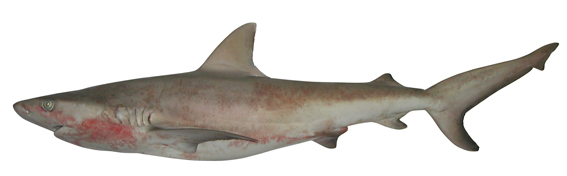fish: (14, 23, 559, 162)
